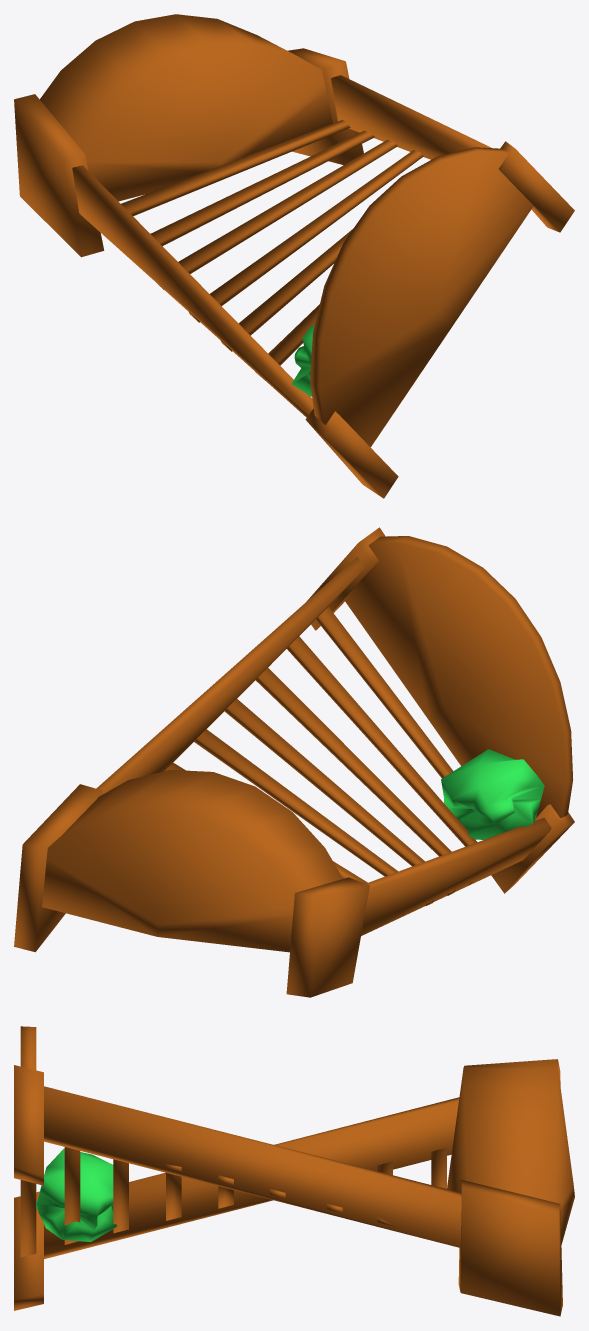
The model's file is Bed4.fbx.
3 views of the same model, one above another, from view 1: azimuth 30°, elevation 25°; view 2: azimuth 150°, elevation 25°; view 3: azimuth 270°, elevation 25° (orthographic). The views are drawn at different scales.
Visible parts, largest first — view 1: Bed, pillow; view 2: Bed, pillow; view 3: Bed, pillow.
Part boxes in pixels (left/top/right/bottom): Bed: left=14, top=14, right=574, bottom=498; pillow: left=291, top=325, right=314, bottom=396; Bed: left=14, top=527, right=574, bottom=997; pillow: left=441, top=749, right=544, bottom=839; Bed: left=14, top=1026, right=574, bottom=1316; pillow: left=36, top=1148, right=117, bottom=1242.
Bounding box in the file's own units: 176 × 178 × 292.
